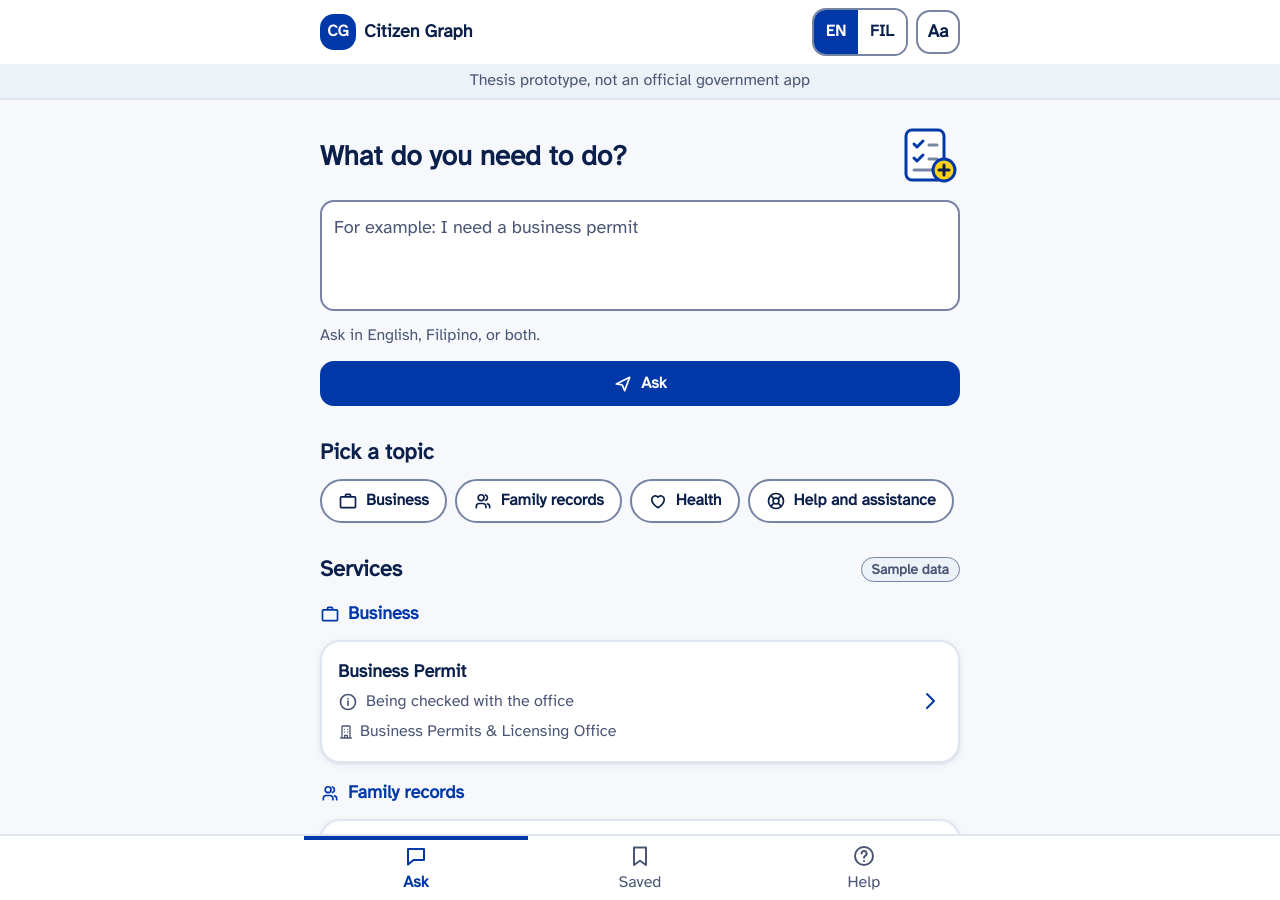
Test: home screen › marks the sample data and reads in Filipino when toggled
Check: the text "Business Permit" is shown, box 338,660 -> 466,682
Check: the text "Sample data" is shown, box 861,556 -> 960,582
Click the button with aria-label "Filipino": (882, 32) 858,10 -> 906,54
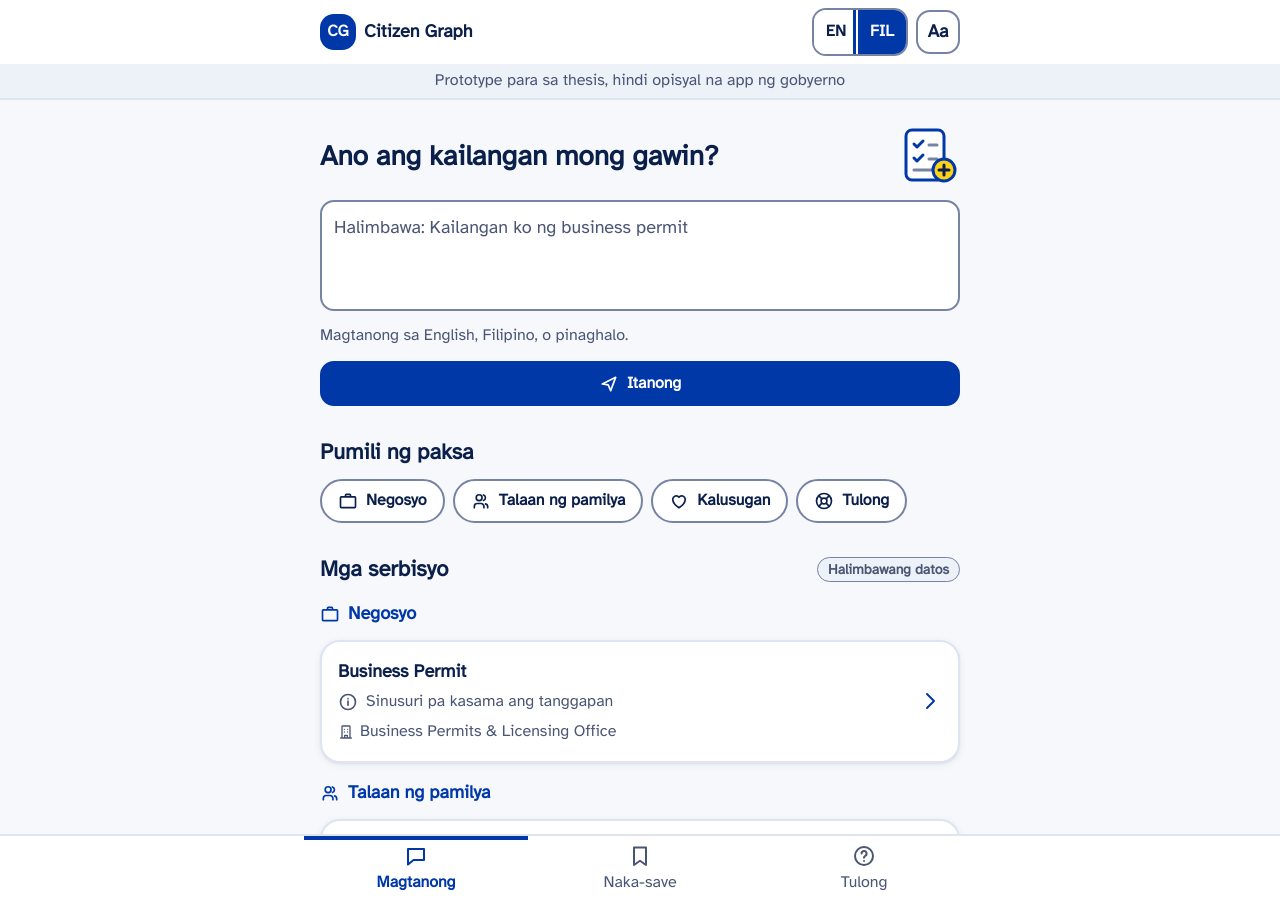
Check: the text box labelled "Ano ang kailangan mong gawin?" is shown, box 320,200 -> 960,311
Check: the text "Prototype para sa thesis, hindi opisyal na app ng gobyerno" is shown, box 0,64 -> 1279,98
